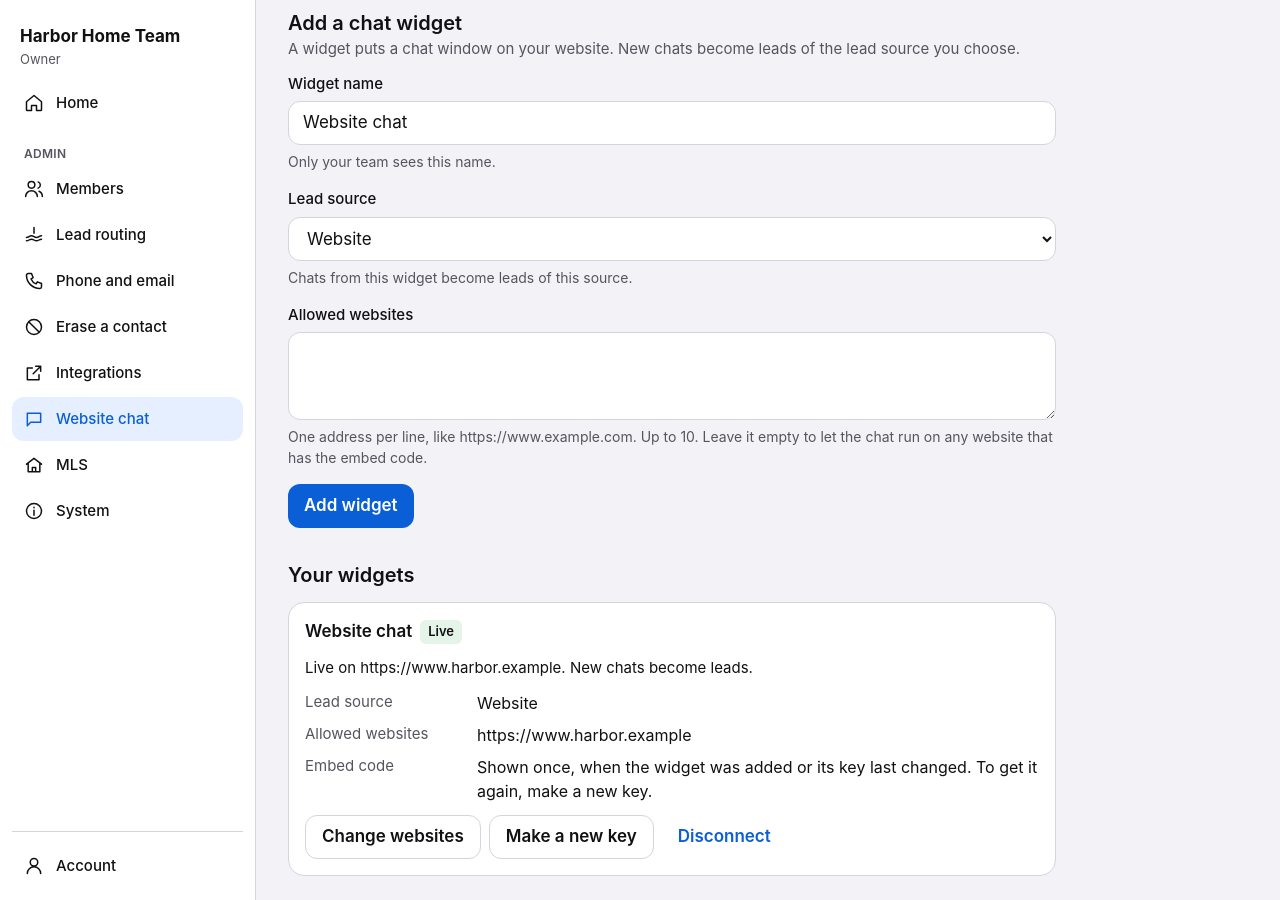
Test: Website chat page › rotating asks first, then shows the new key once and says the old embed stopped
The image size is (1280, 900).
(page scrolled)
Step 1. Click the button "Make a new key" → (571, 837), box [489, 815, 654, 859]
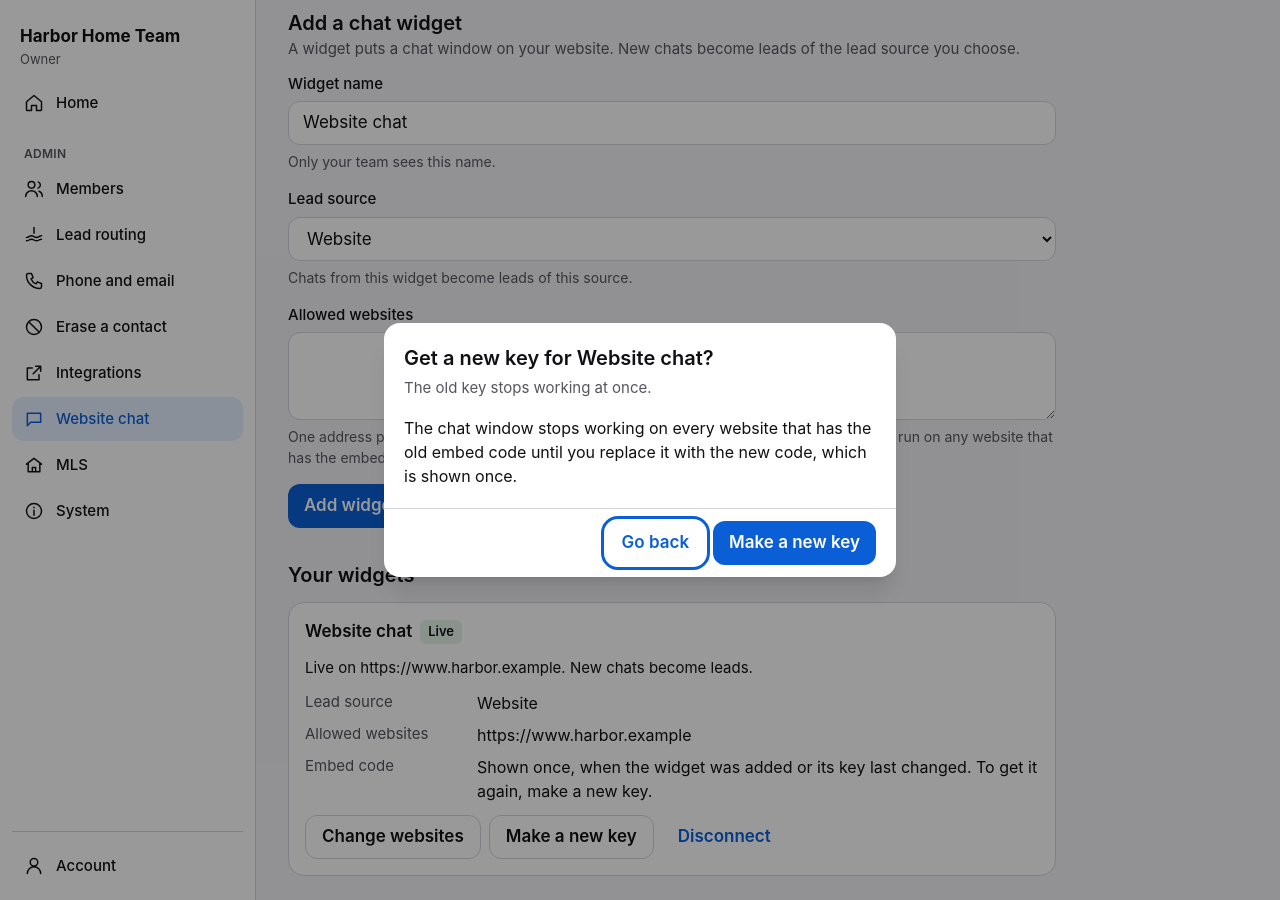
Check: the dialog "Get a new key for Website chat?" shows "stops working on every website that has the old embed code", box [404, 418, 871, 486]
Step 2. Click the button "Make a new key" → (795, 543), box [713, 521, 876, 565]
(page scrolled)
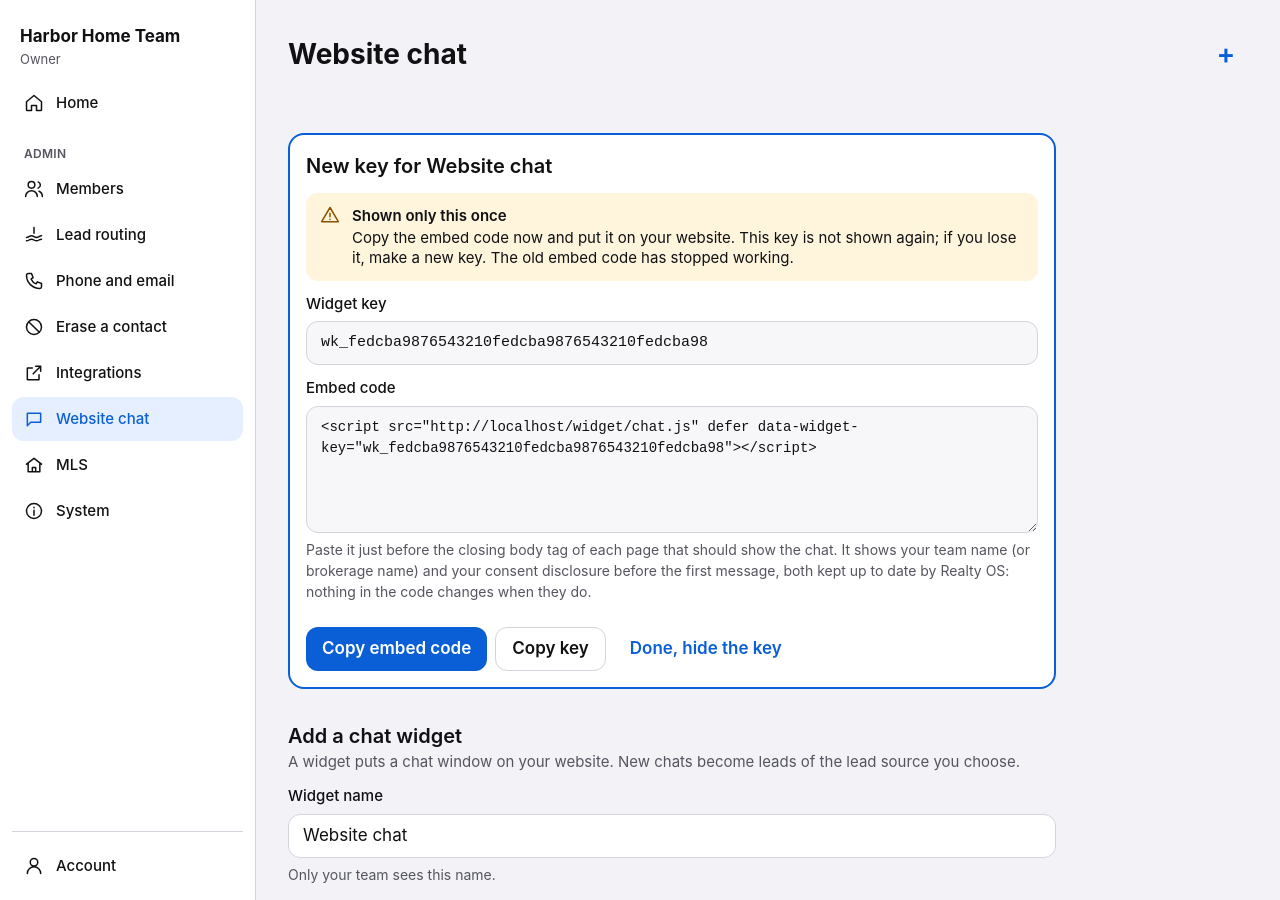
Check: the field labelled "Widget key" holds "wk_fedcba9876543210fedcba9876543210fedcba98", box [306, 321, 1038, 365]
Check: the text "The old embed code has stopped working." is shown, box [486, 248, 794, 267]
